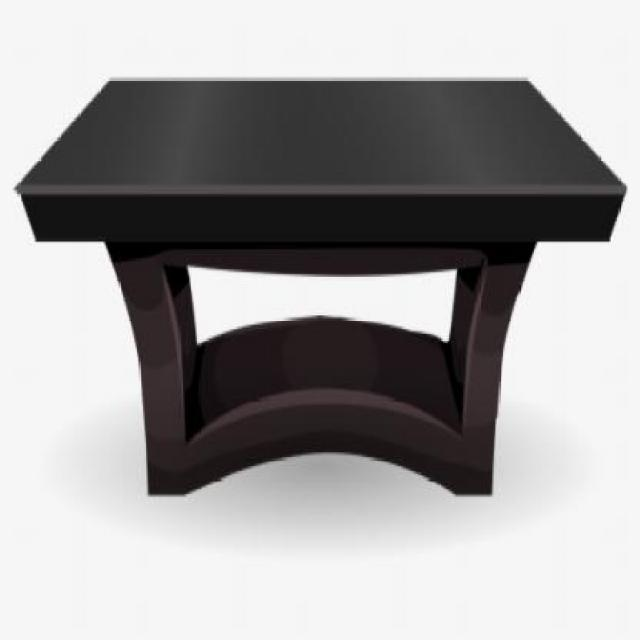table: (11, 72, 626, 494)
